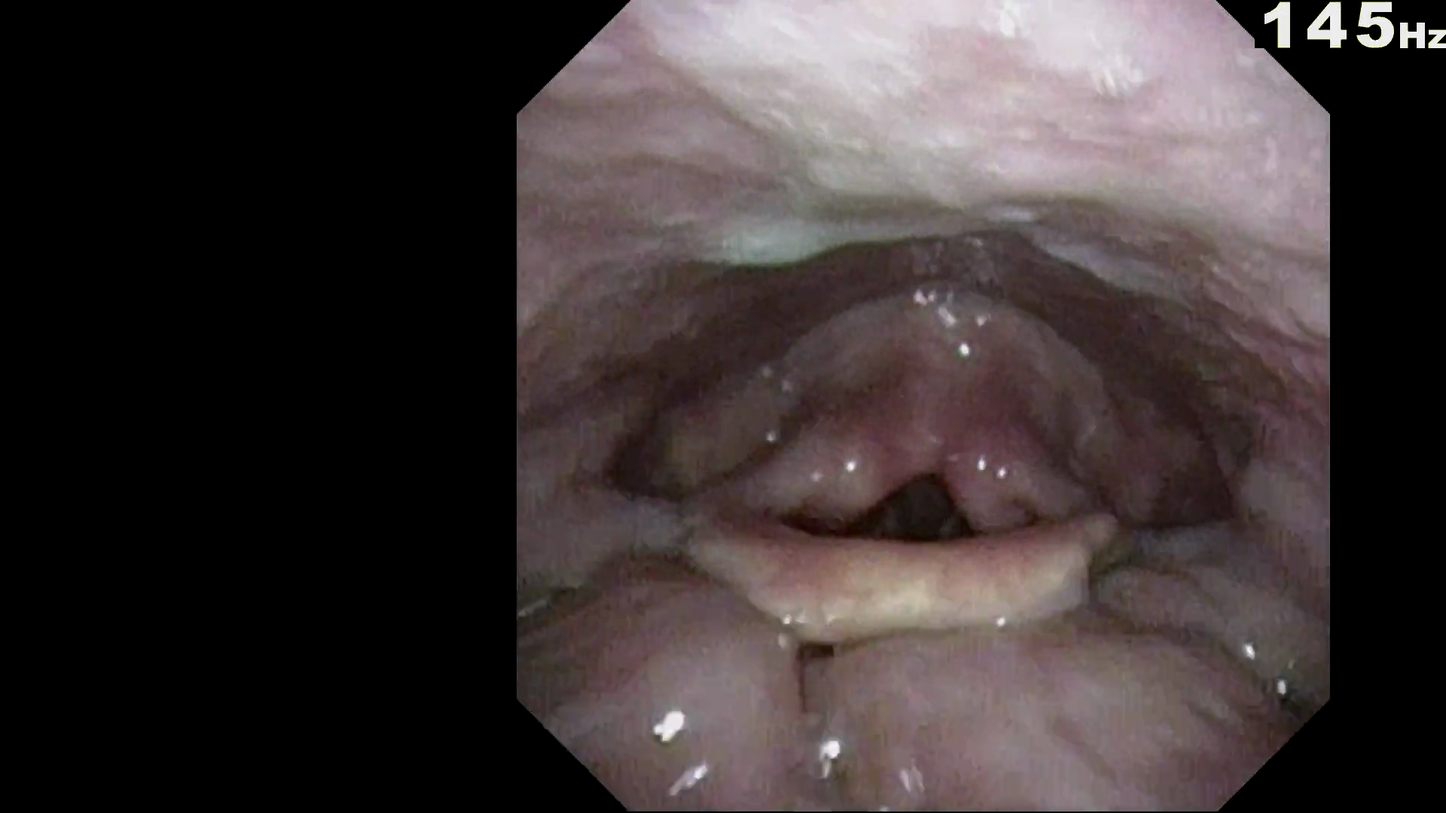epiglottis: (677, 501, 1199, 632)
trachea: (882, 461, 984, 537)
